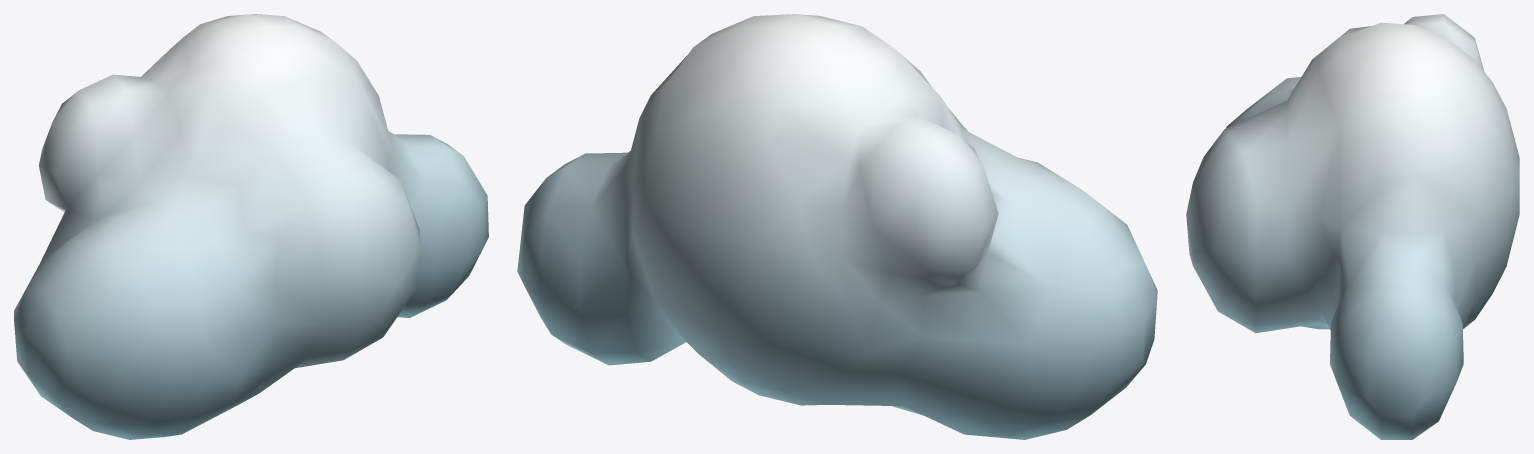
The model's file is SM_Cloud_Schmol.fbx.
3 renders of one model, left to right at view 1: azimuth 30°, elevation 25°; view 2: azimuth 150°, elevation 25°; view 3: azimuth 270°, elevation 25°, orthographic. The views are drawn at different scales.
Visible parts, largest first — view 1: SM_Cloud_Schmol; view 2: SM_Cloud_Schmol; view 3: SM_Cloud_Schmol.
Part boxes in pixels (<box>): SM_Cloud_Schmol: <box>14,14,488,439</box>; SM_Cloud_Schmol: <box>517,14,1157,439</box>; SM_Cloud_Schmol: <box>1186,14,1519,439</box>.
Bounding box in the file's own units: 50 × 33.27 × 29.97.
